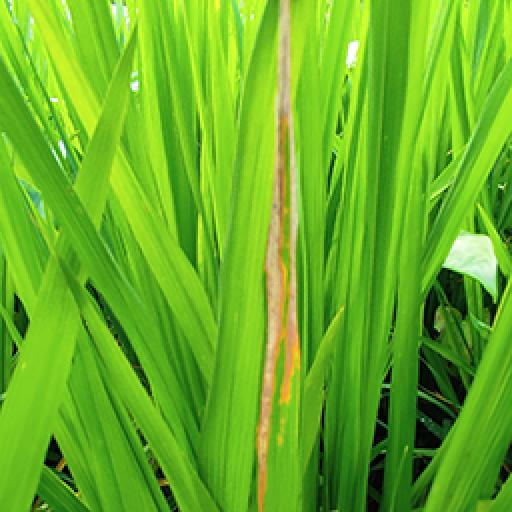Sheath Blight: (246, 0, 314, 506)
